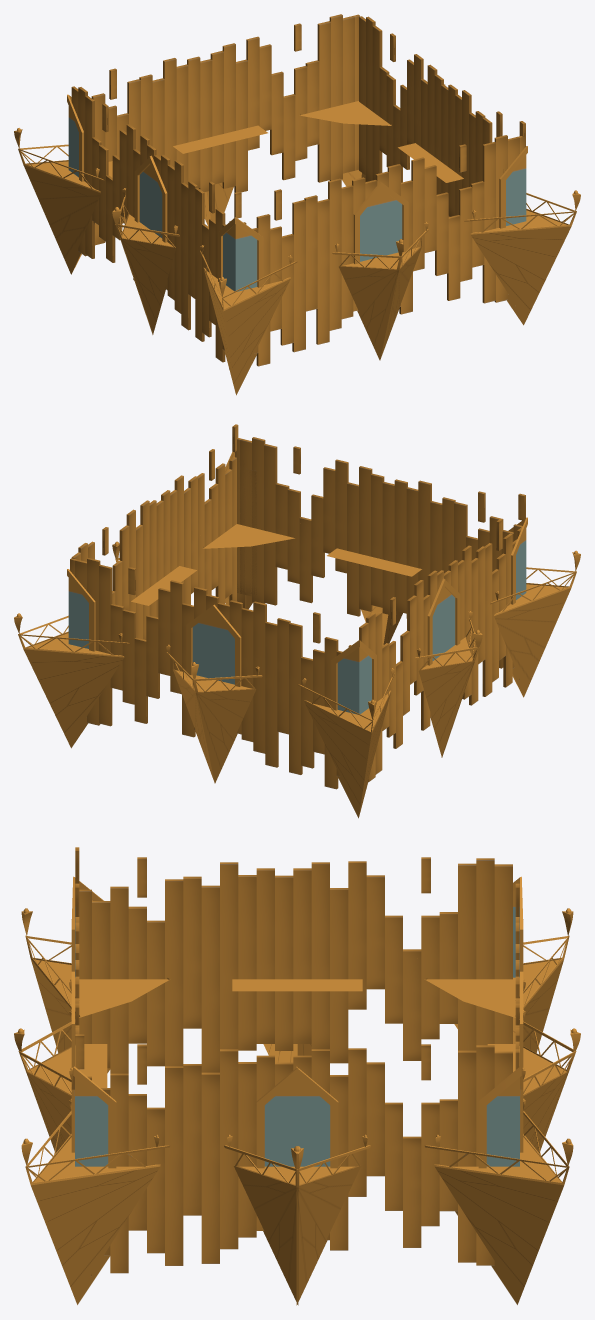
Rendered from ModularBuilding_2_v1.fbx.
3 renders of one model, top to bottom at view 1: azimuth 30°, elevation 25°; view 2: azimuth 150°, elevation 25°; view 3: azimuth 270°, elevation 25°, orthographic. The views are drawn at different scales.
Visible parts, largest first — view 1: Two_Two_Whole1_polySurface30 (×3), polySurface43 (×3), polySurface8 (×4), polySurface2 (×4), Two_Two_Whole1_polySurface55 (×3), polySurface28 (×4), polySurface27 (×4), polySurface7 (×4), polySurface29 (×4), polySurface14 (×4), polySurface10 (×4), polySurface25 (×3) (+17 smaller); view 2: Two_Two_Whole1_polySurface30 (×3), polySurface43 (×3), polySurface2 (×4), Two_Two_Whole1_polySurface55 (×3), polySurface28 (×4), polySurface25 (×4), polySurface27 (×4), polySurface8 (×3), polySurface14 (×4), polySurface26 (×4), polySurface15 (×4), polySurface13 (×4) (+18 smaller); view 3: Two_Two_Whole1_polySurface30 (×4), polySurface43 (×4), Two_Two_Whole1_polySurface55 (×3), Two2_Two_Whole1_polySurface54 (×4), polySurface25 (×2), polySurface28 (×2), polySurface27 (×2), polySurface2 (×2), polySurface8 (×2), polySurface29 (×2), polySurface26 (×2), polySurface22 (×2) (+19 smaller).
Part boxes in pixels (x1,y1,x2,y2): Two_Two_Whole1_polySurface30 (×3): (23, 165, 571, 395); polySurface43 (×3): (120, 239, 421, 360); polySurface8 (×4): (85, 21, 495, 303); polySurface2 (×4): (134, 155, 408, 264); Two_Two_Whole1_polySurface55 (×3): (67, 94, 527, 291); polySurface28 (×4): (163, 58, 471, 330); polySurface27 (×4): (152, 78, 475, 344); polySurface7 (×4): (78, 14, 507, 302); polySurface29 (×4): (167, 64, 461, 319); polySurface14 (×4): (126, 36, 424, 271); polySurface10 (×4): (99, 66, 472, 281); polySurface25 (×3): (127, 79, 305, 352); Two_Two_Whole1_polySurface30 (×3): (23, 588, 571, 818); polySurface43 (×3): (173, 661, 474, 783); polySurface2 (×4): (186, 578, 460, 686); Two_Two_Whole1_polySurface55 (×3): (67, 517, 527, 714); polySurface28 (×4): (174, 475, 471, 753); polySurface25 (×4): (197, 473, 492, 774); polySurface27 (×4): (184, 488, 478, 767); polySurface8 (×3): (99, 444, 382, 774); polySurface14 (×4): (126, 459, 423, 695); polySurface26 (×4): (188, 476, 485, 734); polySurface15 (×4): (136, 482, 430, 737); polySurface13 (×4): (119, 467, 416, 684); Two_Two_Whole1_polySurface30 (×4): (31, 959, 563, 1304); polySurface43 (×4): (26, 1072, 568, 1305); Two_Two_Whole1_polySurface55 (×3): (71, 876, 523, 1168); Two2_Two_Whole1_polySurface54 (×4): (33, 959, 561, 1182); polySurface25 (×2): (165, 879, 183, 1265); polySurface28 (×2): (220, 862, 238, 1249); polySurface27 (×2): (201, 885, 219, 1263); polySurface2 (×2): (256, 1066, 338, 1168); polySurface8 (×2): (458, 863, 476, 1262); polySurface29 (×2): (238, 875, 256, 1237); polySurface26 (×2): (183, 876, 201, 1215); polySurface22 (×2): (110, 886, 128, 1273).
Size of the model in its own units: 2747 by 1438 by 2735.
